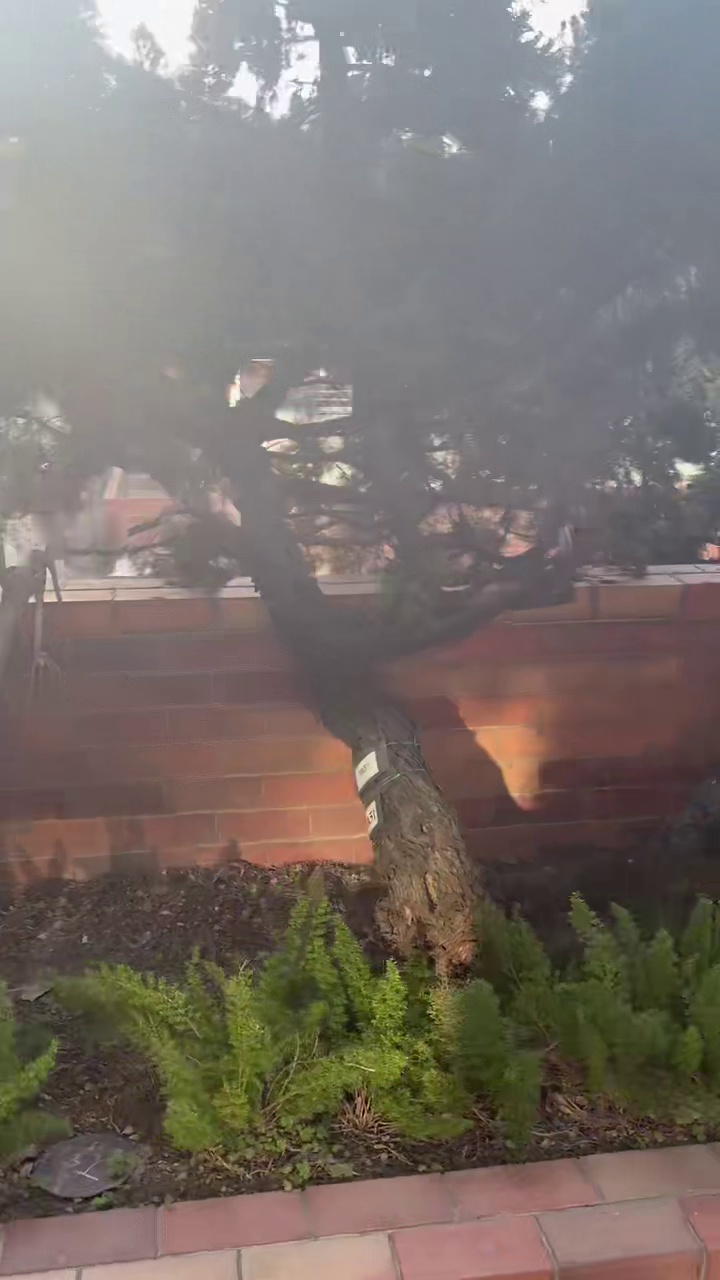Juniperus chinensis: (0, 0, 719, 969)
